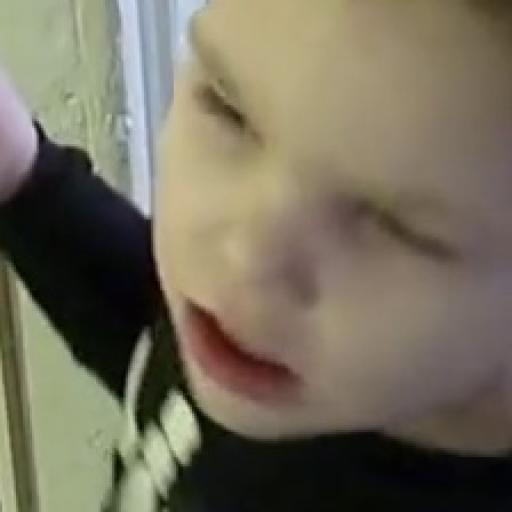Autism: (151, 11, 512, 469)
